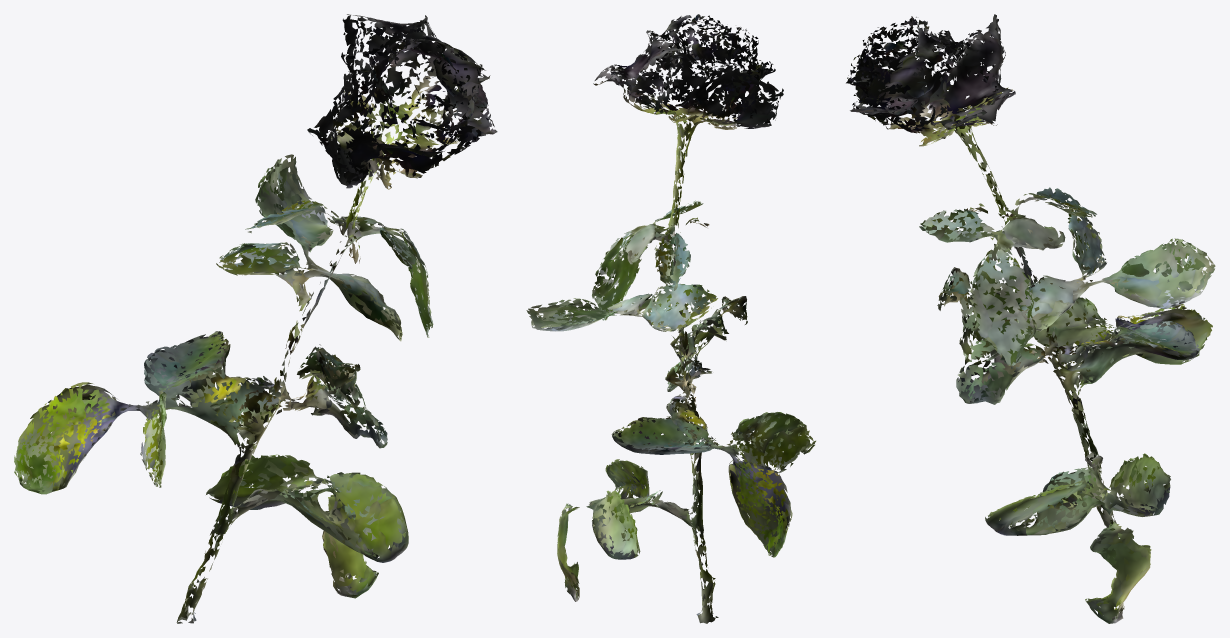
The model's file is black_rose.glb.
3 views of the same model, side by side, from view 1: azimuth 30°, elevation 25°; view 2: azimuth 150°, elevation 25°; view 3: azimuth 270°, elevation 25° (orthographic). The views are drawn at different scales.
Parts seen in each view (by area): view 1: textured_0; view 2: textured_0; view 3: textured_0.
Boxes of the visible parts, box(x1,y1,x2,y2) form: textured_0: box(14, 14, 497, 623); textured_0: box(526, 14, 815, 623); textured_0: box(846, 14, 1215, 623).
Size of the model in its own units: 0.248 by 0.4582 by 0.265.
Materials: 1 (1 with a texture image).
